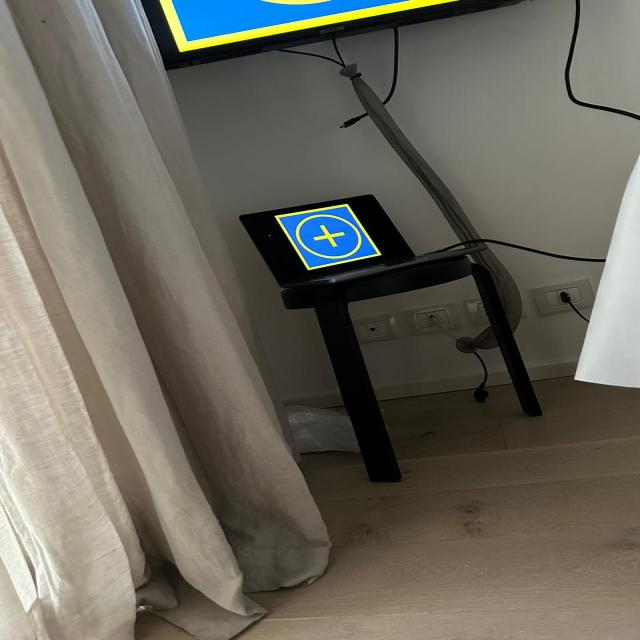Marker: (157, 0, 463, 52), (276, 202, 384, 270)
